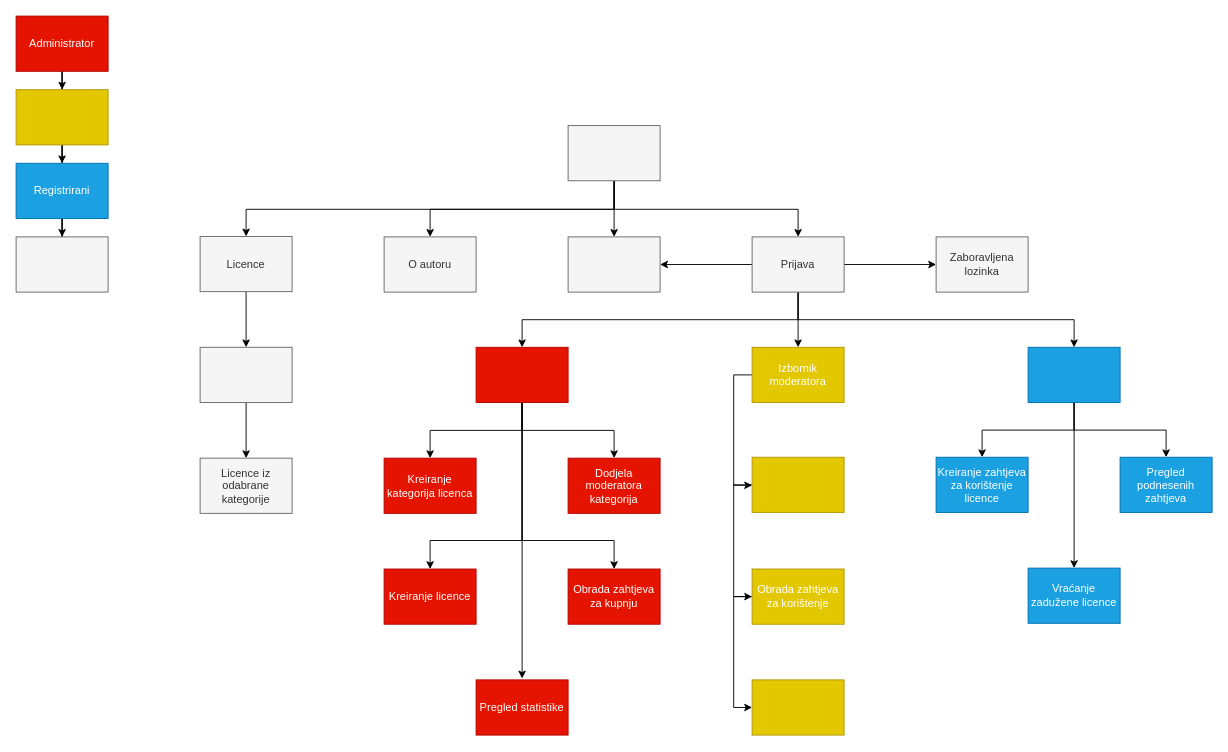
This 1228x752 diagram has some shape labels left out. Each missing label, with the centre of its shape:
Izbornik administratora: [521,374]
Izbornik registriranog korisnika: [1073,374]
Kupnja licence: [797,484]
Moderator: [61,117]
Neregistrirani: [61,264]
Odabir kategorije: [245,374]
Popis korisnika: [797,707]
Početna stranica: [613,153]
Registracija: [613,264]
